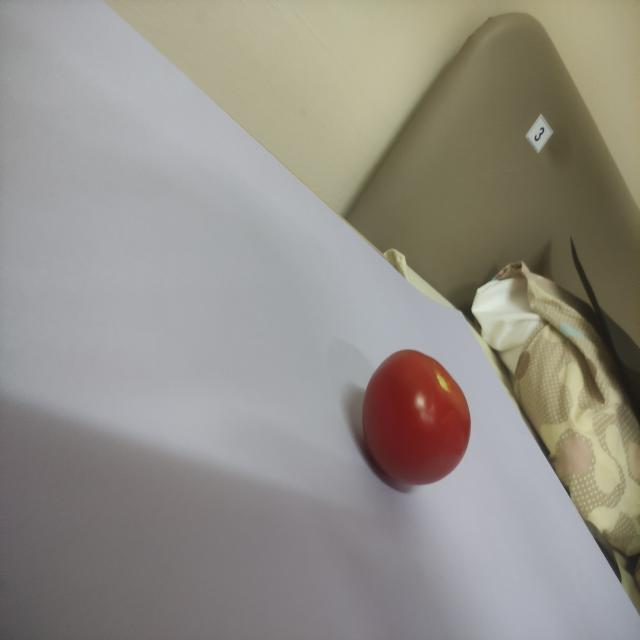kirmizi: (344, 337, 482, 496)
